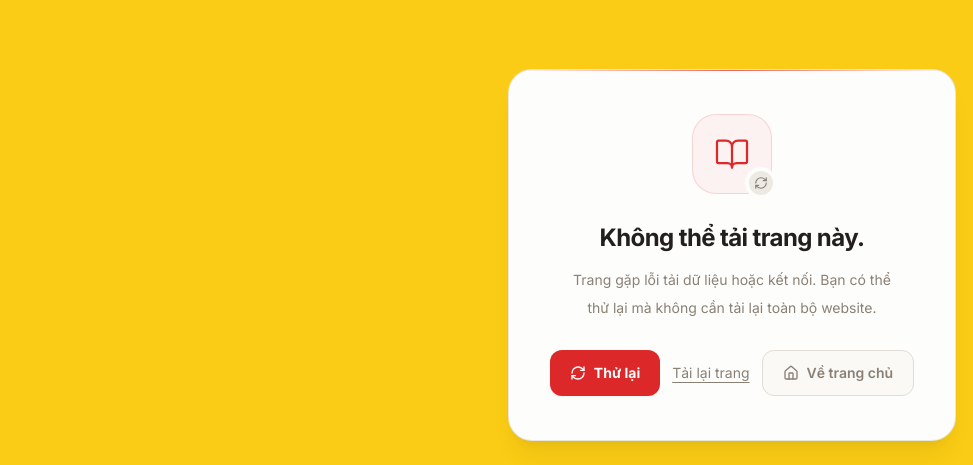
Test: recreates a rejected React.lazy payload on retry without requiring a page reload
This screenshot has width=973, height=465.
Expected: the message is shown, [508, 69, 956, 441]
Click the button "Thử lại" at (605, 373), box [550, 350, 660, 396]
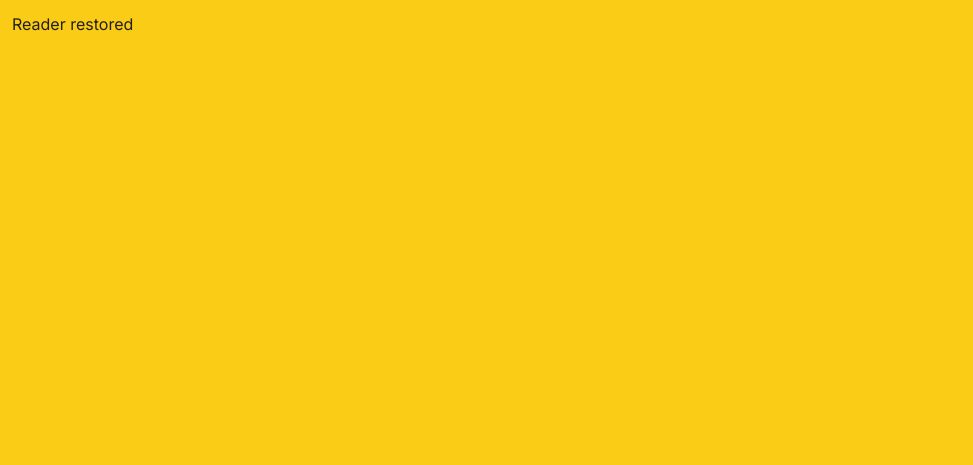
Expected: the text "Reader restored" is shown, [12, 14, 133, 34]
